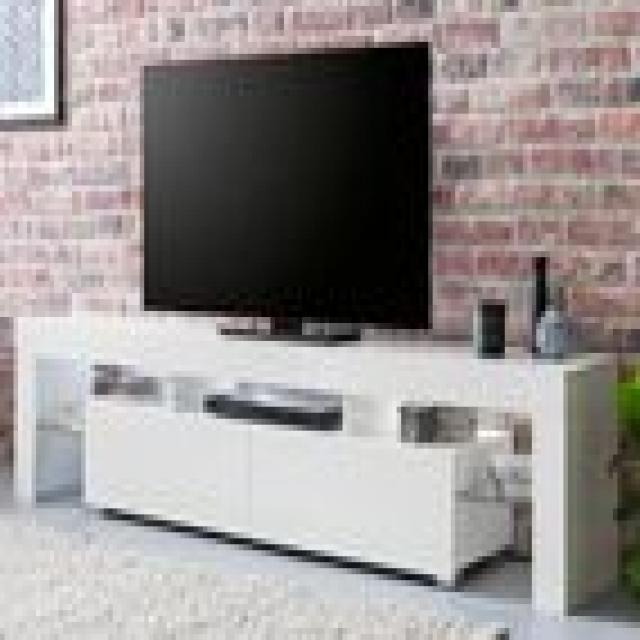others: (126, 30, 455, 347)
